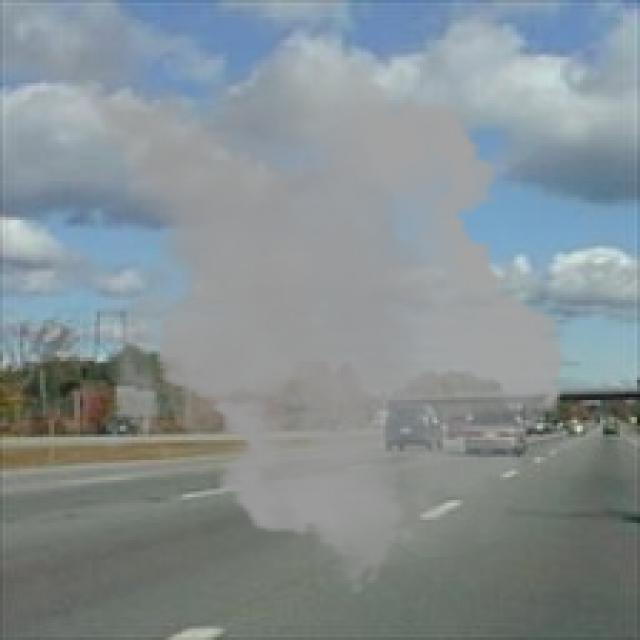smoke: (11, 34, 580, 597)
